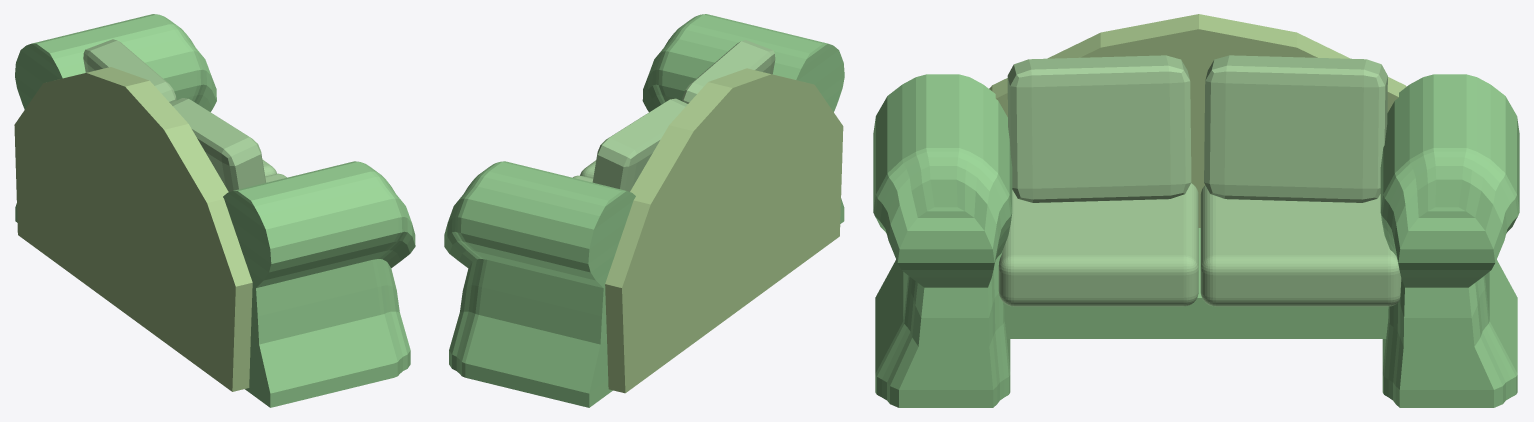
The model's file is sofa_2.fbx.
The picture shows the model from 3 angles, left to right: view 1: azimuth 30°, elevation 25°; view 2: azimuth 150°, elevation 25°; view 3: azimuth 270°, elevation 25°; orthographic projection. The views are drawn at different scales.
Parts seen in each view (by area): view 1: back of sofa, side of chairs, top cushions (l), top cushions (r); view 2: back of sofa, side of chairs, top cushions (r), top cushions (l); view 3: side of chairs, top cushions (l), top cushions (r), cushion (l), cushion (r), bottom of sofa, back of sofa.
Part boxes in pixels (x1,y1,x2,y2): back of sofa: (14,67,252,391); side of chairs: (15,14,415,407); top cushions (l): (170,98,265,191); top cushions (r): (83,39,176,103); back of sofa: (605,68,843,393); side of chairs: (444,14,844,407); top cushions (r): (592,98,687,191); top cushions (l): (682,40,775,103); side of chairs: (873,74,1519,407); top cushions (l): (1007,55,1191,202); top cushions (r): (1204,55,1387,202); cushion (l): (998,183,1198,306); cushion (r): (1200,185,1401,306); bottom of sofa: (1004,228,1388,338); back of sofa: (989,14,1406,227).
Size of the model in its own units: 276 by 357 by 716.
